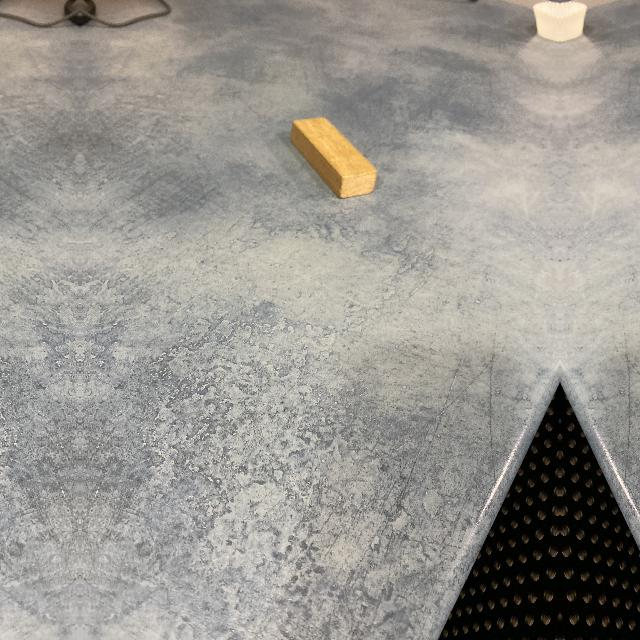jenga: (289, 118, 378, 200)
